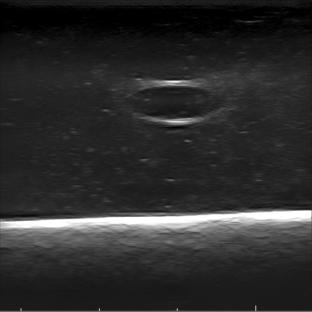vessel: (128, 79, 224, 125)
